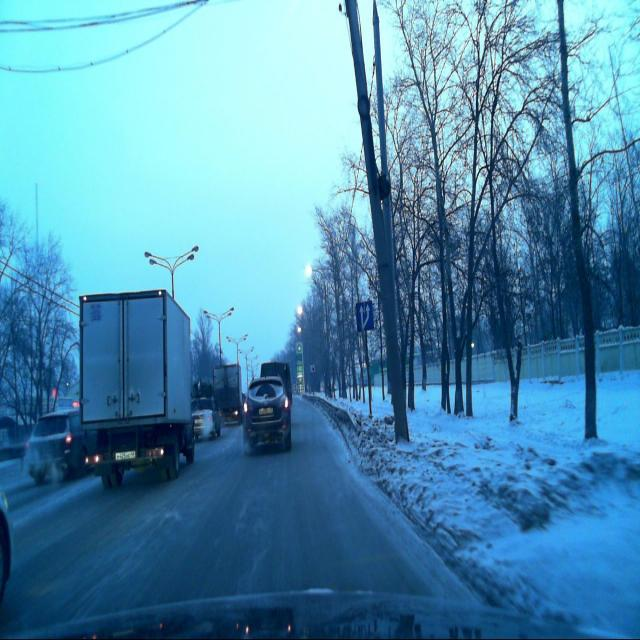object: (365, 336, 372, 419)
road sign: (355, 300, 374, 332)
